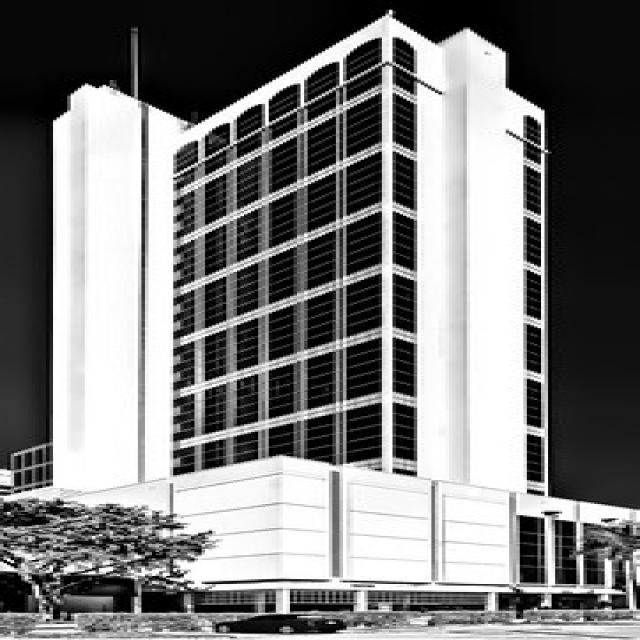Normal_building: (116, 11, 558, 610)
